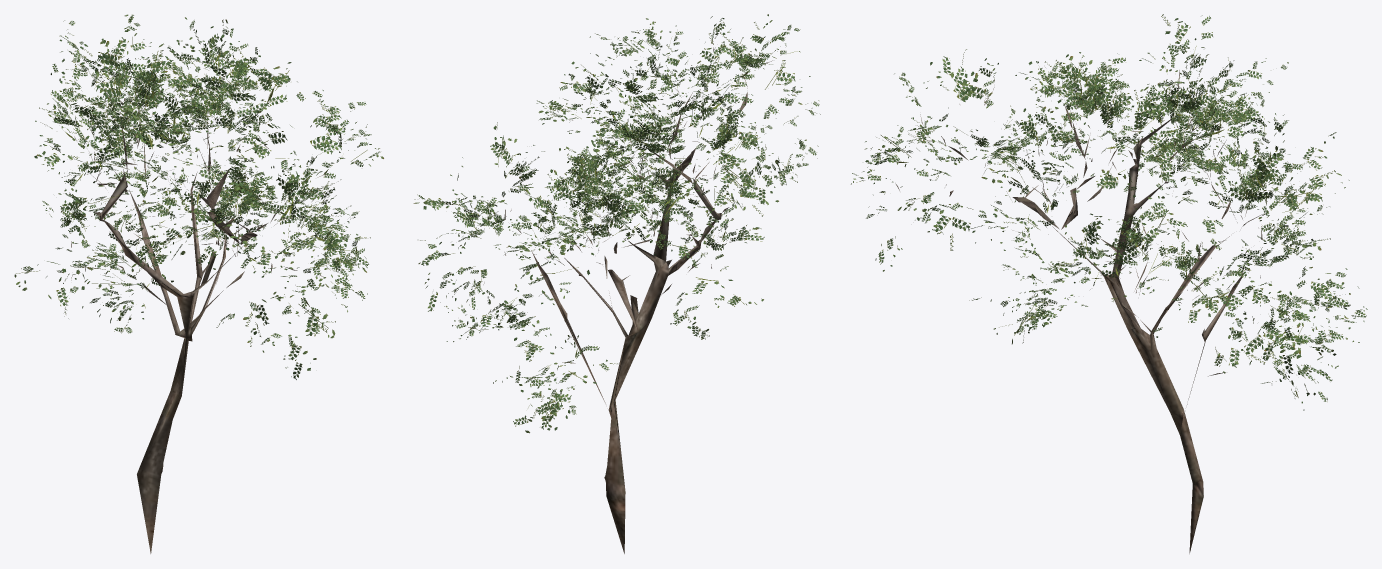
Rendered from deciduous-tree-lod2.glb.
The picture shows the model from 3 angles, left to right: view 1: azimuth 30°, elevation 25°; view 2: azimuth 150°, elevation 25°; view 3: azimuth 270°, elevation 25°; orthographic projection. The views are drawn at different scales.
Visible parts, largest first — view 1: tree_small_02_LOD0; view 2: tree_small_02_LOD0; view 3: tree_small_02_LOD0.
Part boxes in pixels (x1=…): tree_small_02_LOD0: x1=14, y1=14, x2=383, y2=553; tree_small_02_LOD0: x1=413, y1=14, x2=820, y2=553; tree_small_02_LOD0: x1=851, y1=14, x2=1367, y2=553.
Size of the model in its own units: 2.86 by 4.55 by 4.25.
3 materials, 3 textured.
